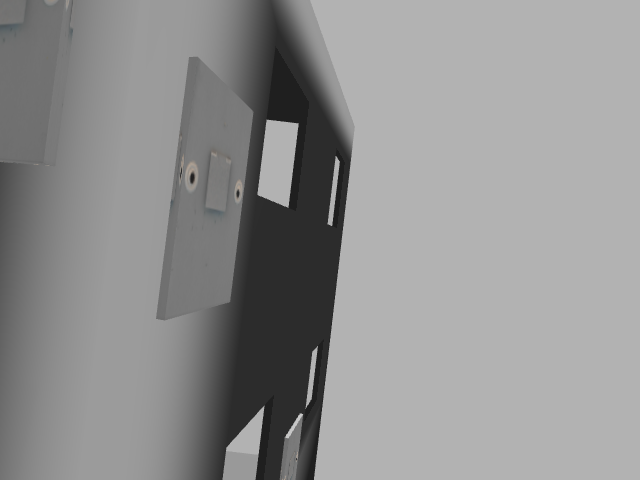facade: (184, 149, 244, 213)
